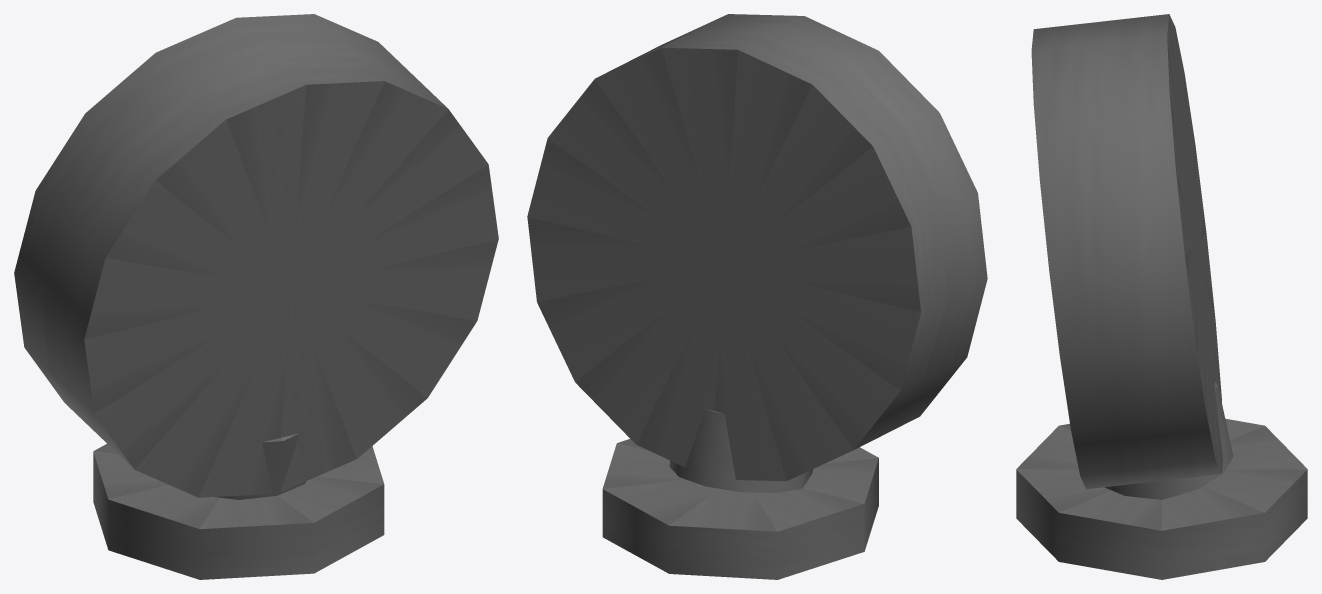
Rendered from mastarmcurve_5x1_c4_down.obj.
3 views of the same model, side by side, from view 1: azimuth 30°, elevation 25°; view 2: azimuth 150°, elevation 25°; view 3: azimuth 270°, elevation 25° (orthographic). The views are drawn at different scales.
Parts seen in each view (by area): view 1: mastarm_5x1_c4_down; view 2: mastarm_5x1_c4_down; view 3: mastarm_5x1_c4_down.
Part boxes in pixels (left/top/right/bottom): mastarm_5x1_c4_down: left=14, top=14, right=498, bottom=579; mastarm_5x1_c4_down: left=527, top=14, right=987, bottom=579; mastarm_5x1_c4_down: left=1016, top=14, right=1307, bottom=579.
Bounding box in the file's own units: 0.6357 × 0.7306 × 0.4.
